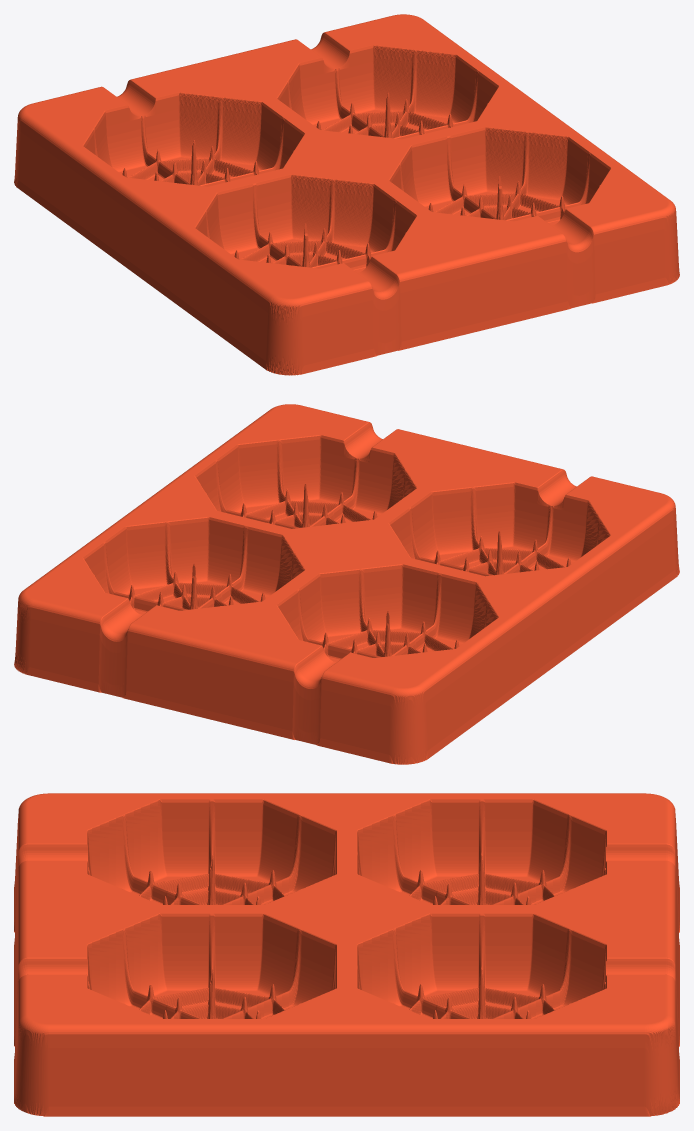
The model's file is mold.glb.
The picture shows the model from 3 angles, top to bottom: view 1: azimuth 30°, elevation 25°; view 2: azimuth 150°, elevation 25°; view 3: azimuth 270°, elevation 25°; orthographic projection. The views are drawn at different scales.
Visible parts, largest first — view 1: geometry_0; view 2: geometry_0; view 3: geometry_0.
Boxes of the visible parts, <box> form: geometry_0: <box>14,14,679,375</box>; geometry_0: <box>14,404,679,764</box>; geometry_0: <box>14,793,679,1116</box>.
Bounding box in the file's own units: 0.1468 × 0.0245 × 0.171.
